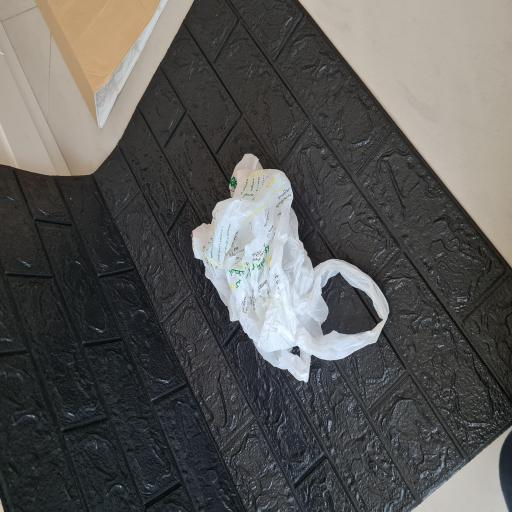plastic bag: (190, 152, 390, 385)
